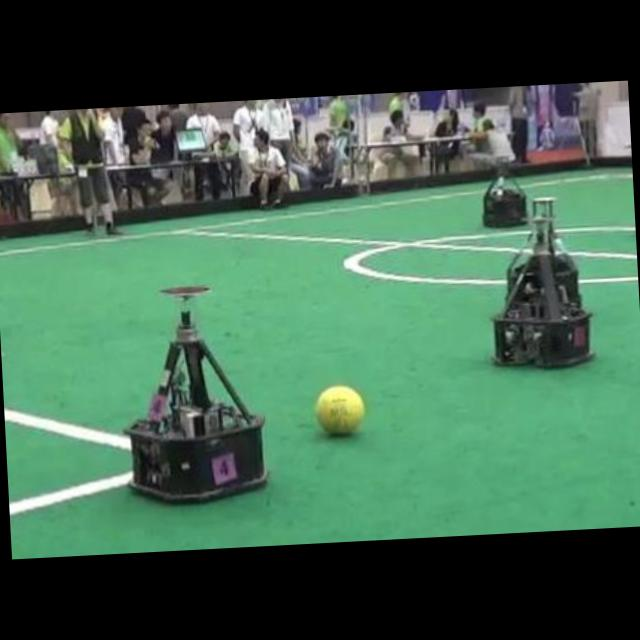ball: (317, 386, 364, 433)
robot: (127, 287, 266, 501), (494, 198, 591, 365), (483, 156, 526, 227)
